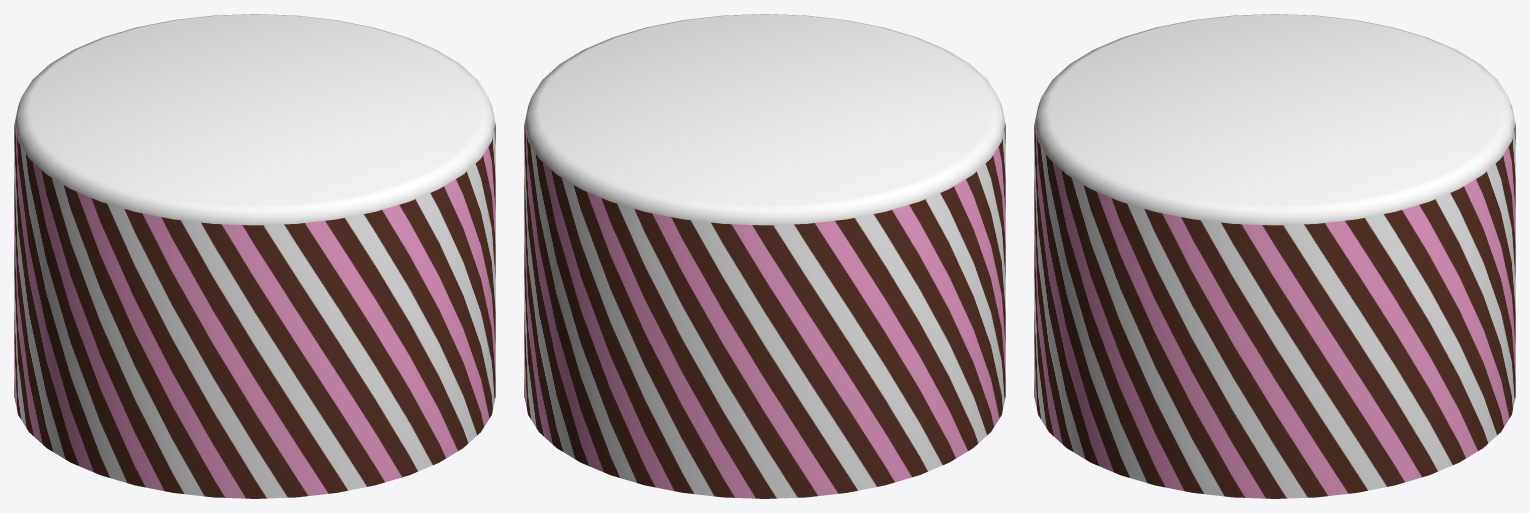
Rendered from Cake_Smlfix.fbx.
The picture shows the model from 3 angles, left to right: view 1: azimuth 30°, elevation 25°; view 2: azimuth 150°, elevation 25°; view 3: azimuth 270°, elevation 25°; orthographic projection.
Parts seen in each view (by area): view 1: Cake_Sml; view 2: Cake_Sml; view 3: Cake_Sml.
Part boxes in pixels (x1,y1,x2,y2): Cake_Sml: (14,14,495,498); Cake_Sml: (524,14,1005,498); Cake_Sml: (1034,14,1515,498).
Bounding box in the file's own units: 11953 × 7875 × 11953.
